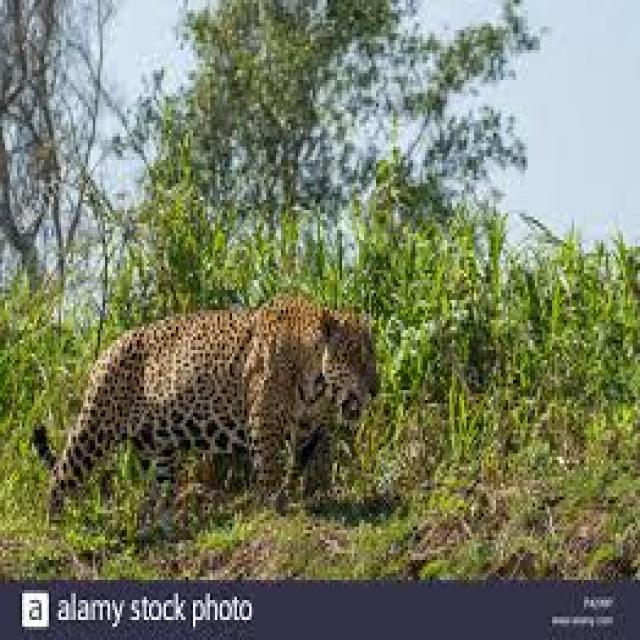Jaguar: (44, 284, 379, 524)
